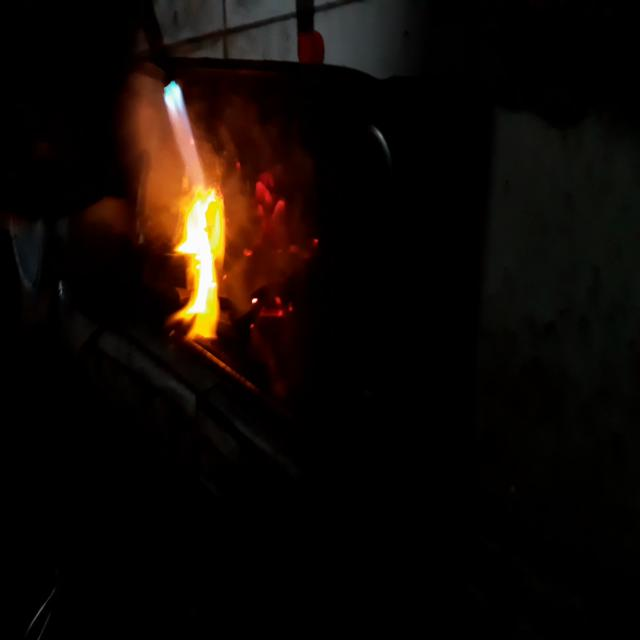Fire: (162, 64, 237, 350), (247, 157, 301, 334), (128, 125, 176, 235)
